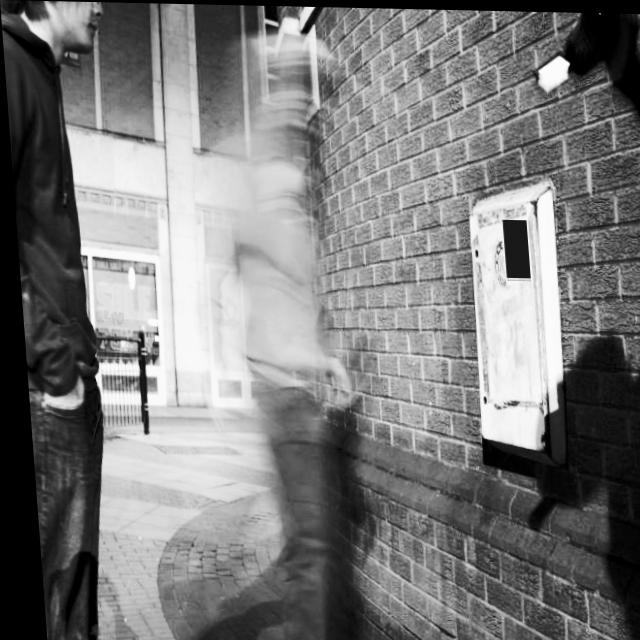qr_code: (499, 218, 527, 278)
